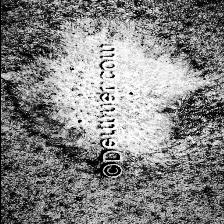Non-Cancerous Skin Condition: (125, 12, 224, 224), (0, 9, 101, 177)
